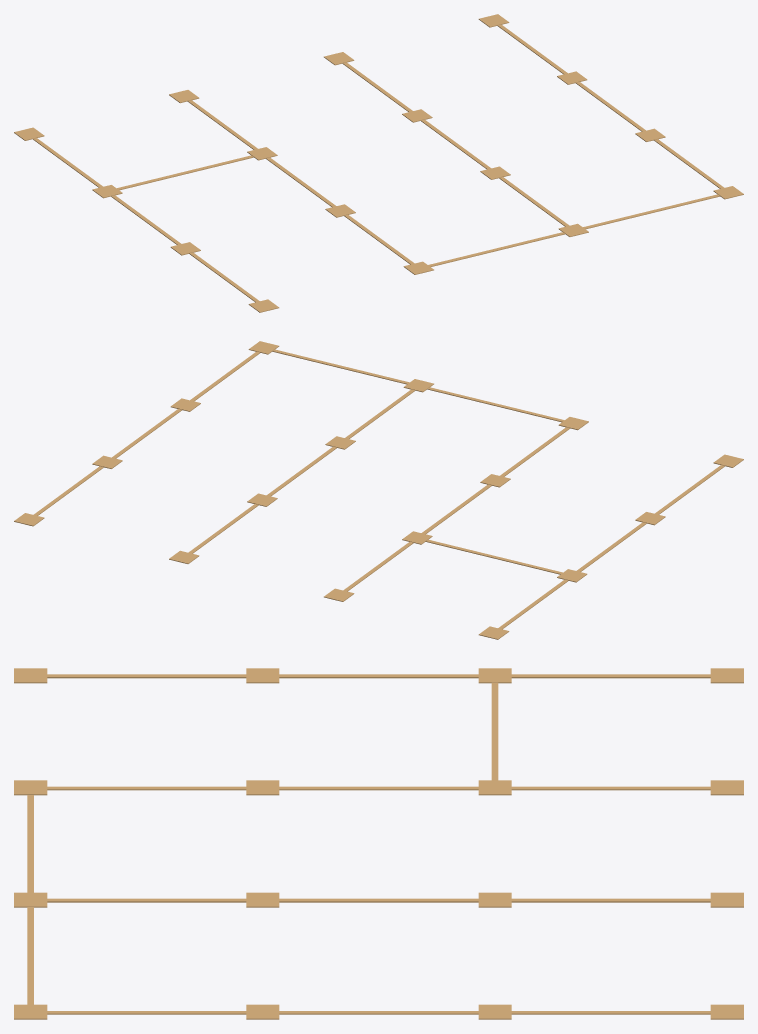
File: board.glb
3 renders of one model, top to bottom at view 1: azimuth 30°, elevation 25°; view 2: azimuth 150°, elevation 25°; view 3: azimuth 270°, elevation 25°, orthographic. The views are drawn at different scales.
Parts seen in each view (by area): view 1: Unified_Net_1_Contour_0; view 2: Unified_Net_1_Contour_0; view 3: Unified_Net_1_Contour_0.
Part boxes in pixels (<box>): Unified_Net_1_Contour_0: <box>33,24,724,312</box>; Unified_Net_1_Contour_0: <box>33,349,743,629</box>; Unified_Net_1_Contour_0: <box>14,668,710,1014</box>.
Size of the model in its own units: 0.025 by 5.25e-05 by 0.022.
